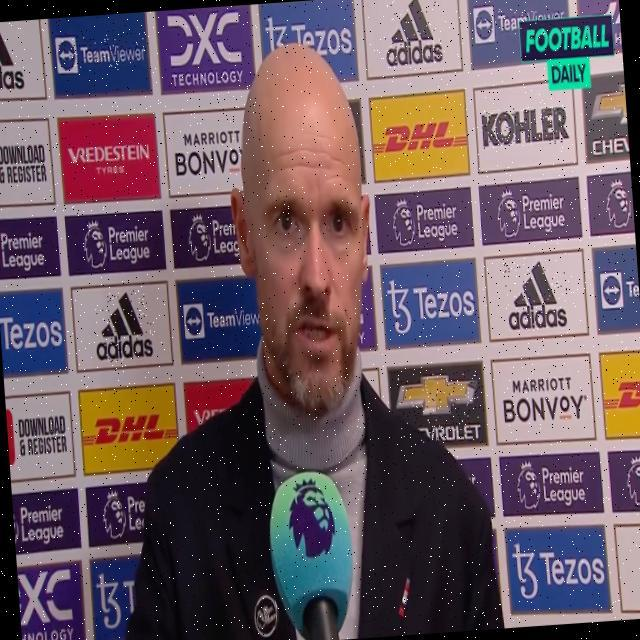Adidas: (503, 256, 569, 332), (94, 289, 155, 363), (381, 0, 444, 70)
Chevrolet: (396, 370, 483, 445)
Kohler: (480, 105, 569, 149)
TeamViewer: (56, 31, 147, 74), (474, 1, 565, 43)
